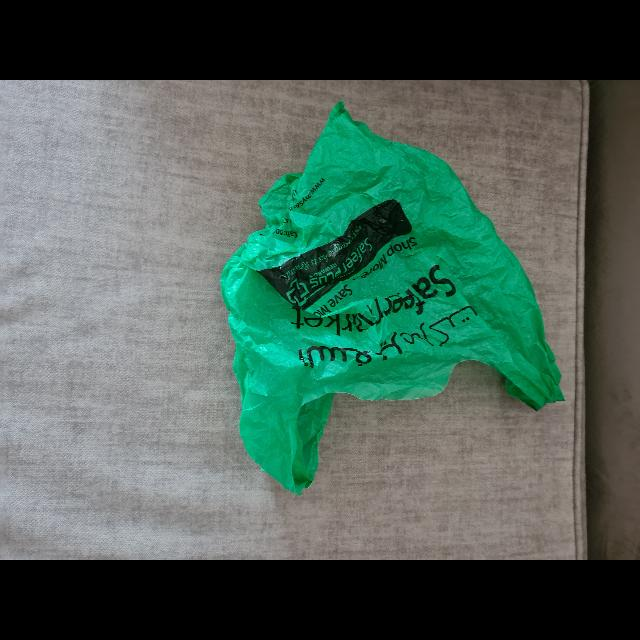plastic_bag: (226, 102, 564, 494)
